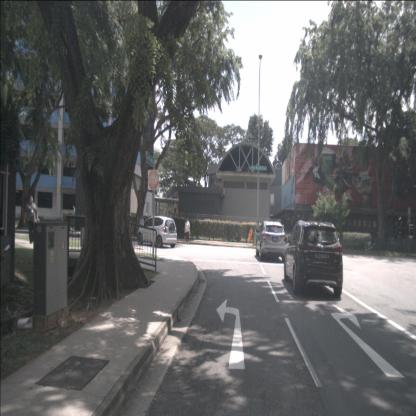human-pedestrian-adult: (24, 194, 39, 245), (184, 217, 190, 245), (139, 215, 144, 242), (370, 228, 375, 249), (392, 228, 396, 250)
vehicle-car: (284, 219, 343, 297), (137, 216, 177, 249), (256, 220, 286, 263)
